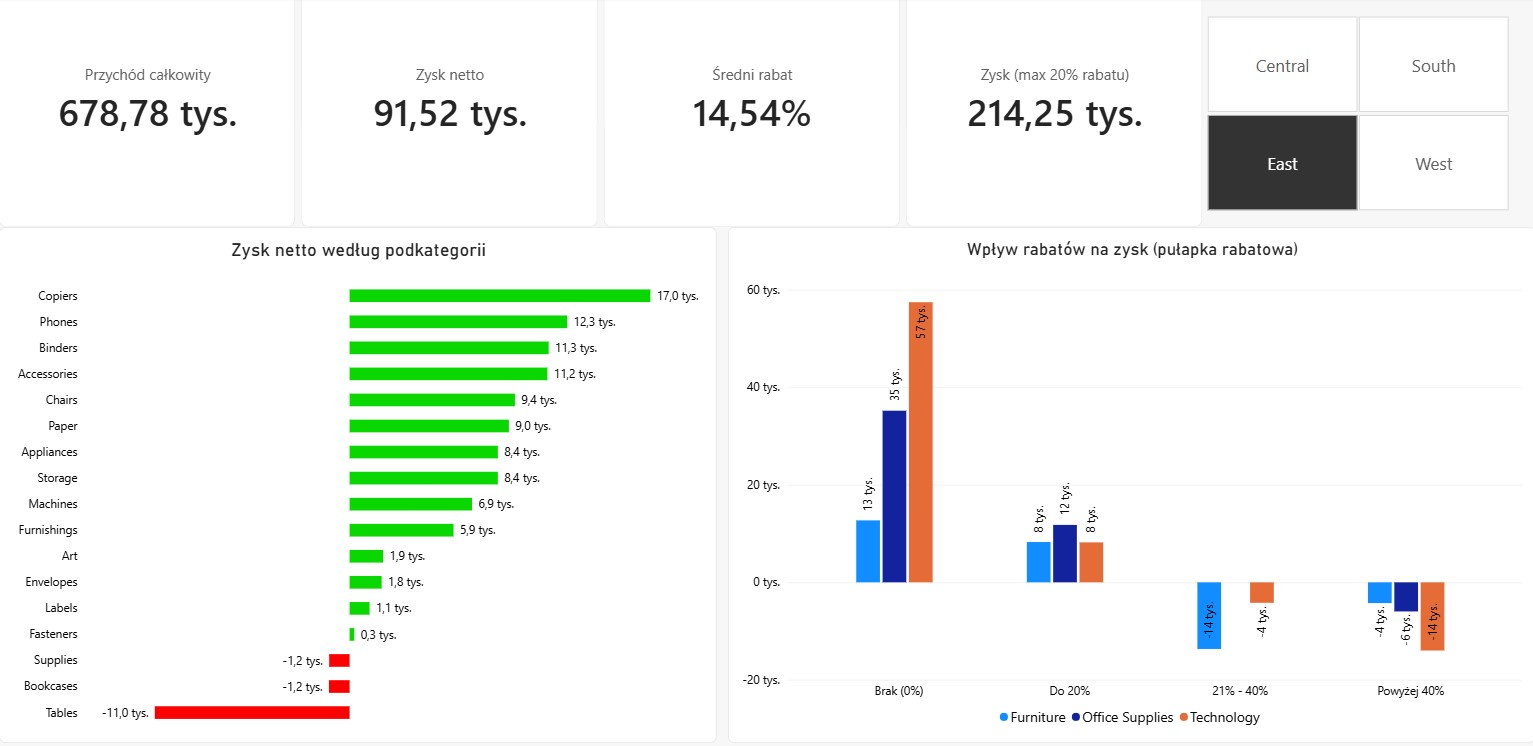

Layout of this report page (visuals, bound fields, positions):
{"tool":"powerbi","page":{"name":"Strona 1","canvas":[1920,1080],"ordinal":0},"visuals":[{"type":"cardVisual","fields":{"Data":["Sum(Data__2.Sales)","Sum(Data__2.Profit)","Avg(Data__2.Discount)","Sum(Data__2.WhatIfMax20%Discount)"]},"box":[0,0,1504.1,317.4],"z":0},{"type":"clusteredBarChart","title":"Zysk netto według podkategorii","fields":{"Category":["Data__2.Sub-Category"],"Y":["Sum(Data__2.Profit)"]},"box":[0,317.4,896.9,645.4],"z":1},{"type":"clusteredColumnChart","title":"Wpływ rabatów na zysk (pułapka rabatowa)","fields":{"Category":["Data__2.Przedział rabatu"],"Series":["Data__2.Category"],"Y":["Sum(Data__2.Profit)"]},"box":[911.4,317.4,1008.9,645.4],"z":2},{"type":"slicer","fields":{"Values":["Data__2.Region"]},"box":[1489.6,52.7,416.2,246.3],"z":3}]}

Visuals, with their boxes on the page's 1920x1080 design canvas (x1, y1, x2, y2). These are canvas units, not pixel positions in the 1533x746 screenshot, which may show the page scaled, cropped or inside an application window:
cardVisual - Sum(Data__2.Sales) x Sum(Data__2.Profit): pyautogui.locateOnScreen(0, 0, 1504, 317)
"Zysk netto według podkategorii" clusteredBarChart: pyautogui.locateOnScreen(0, 317, 897, 963)
"Wpływ rabatów na zysk (pułapka rabatowa)" clusteredColumnChart: pyautogui.locateOnScreen(911, 317, 1920, 963)
slicer - Data__2.Region: pyautogui.locateOnScreen(1490, 53, 1906, 299)
